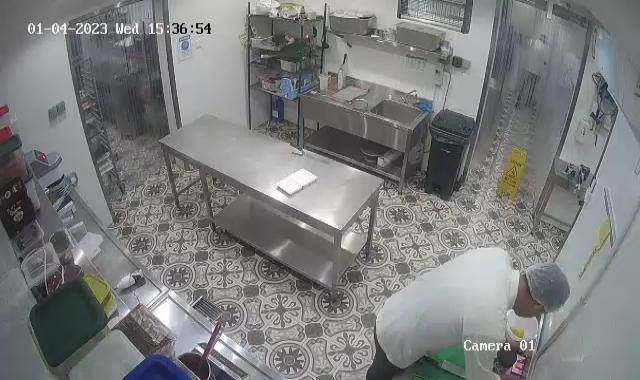hairnet: (524, 262, 570, 313)
